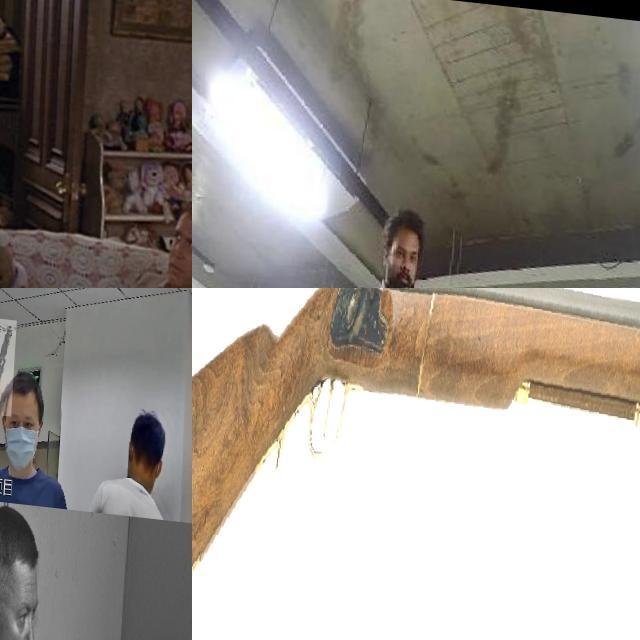gun-knife-thesis - v11 Yolov5 augmented: (192, 288, 640, 640), (0, 125, 137, 288), (0, 316, 19, 414)
